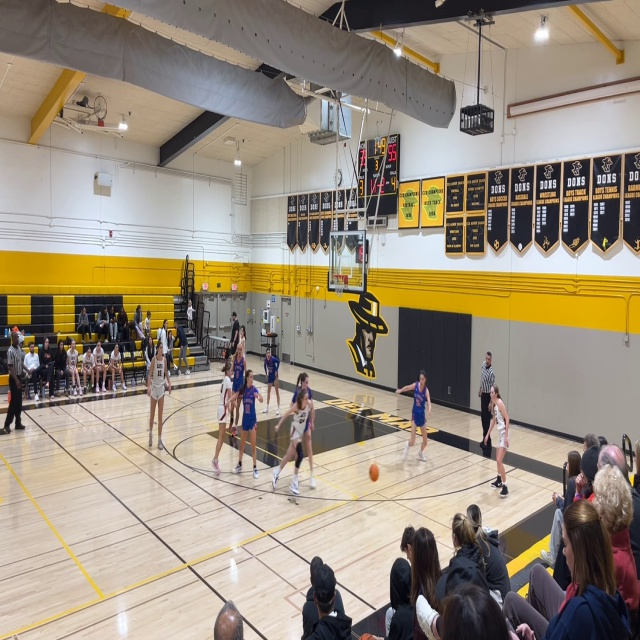Basketball: (369, 463, 379, 482), (230, 427, 237, 436)
